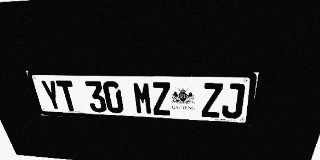0: (102, 81, 124, 113)
3: (84, 81, 107, 113)
J: (221, 83, 246, 119)
M: (132, 82, 153, 115)
T: (55, 80, 79, 111)
Y: (39, 80, 64, 111)
Z: (201, 83, 223, 118), (151, 82, 171, 116)
